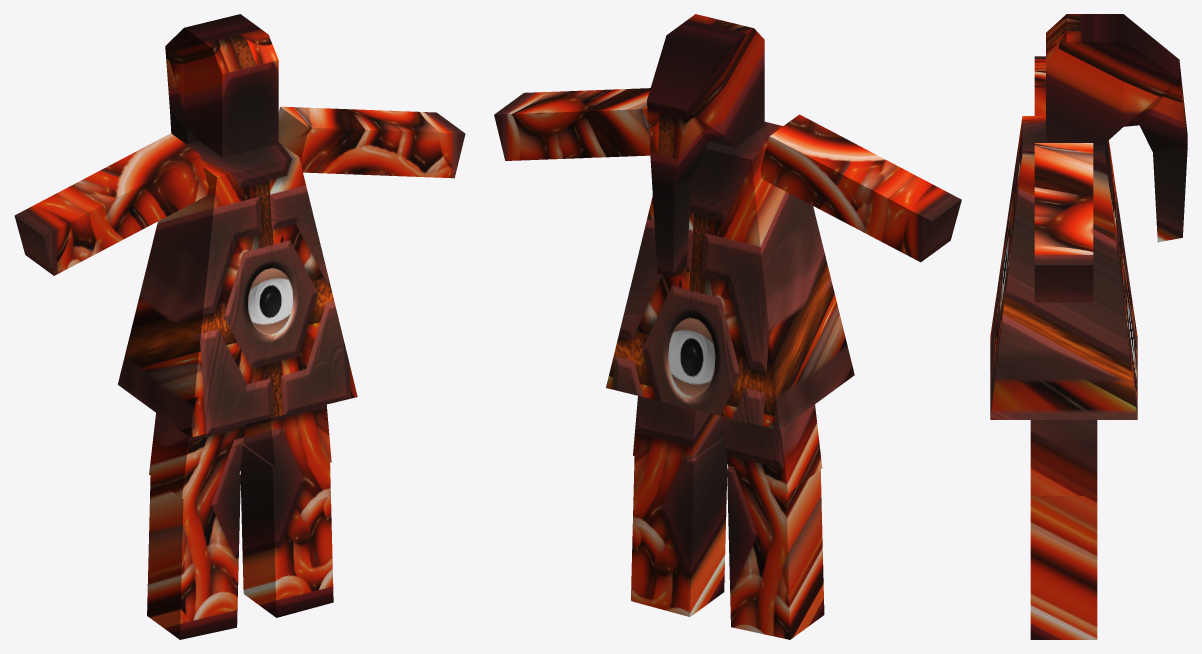
The model's file is bobtextured.DAE.
The picture shows the model from 3 angles, left to right: view 1: azimuth 30°, elevation 25°; view 2: azimuth 150°, elevation 25°; view 3: azimuth 270°, elevation 25°; orthographic projection. The views are drawn at different scales.
Visible parts, largest first — view 1: Cube_006; view 2: Cube_006; view 3: Cube_006.
Part boxes in pixels (x1=…): Cube_006: x1=14, y1=14, x2=465, y2=639; Cube_006: x1=494, y1=14, x2=961, y2=639; Cube_006: x1=990, y1=14, x2=1187, y2=639.
Bounding box in the file's own units: 17.39 × 6.94 × 22.35.
Materials: 1 (1 with a texture image).
